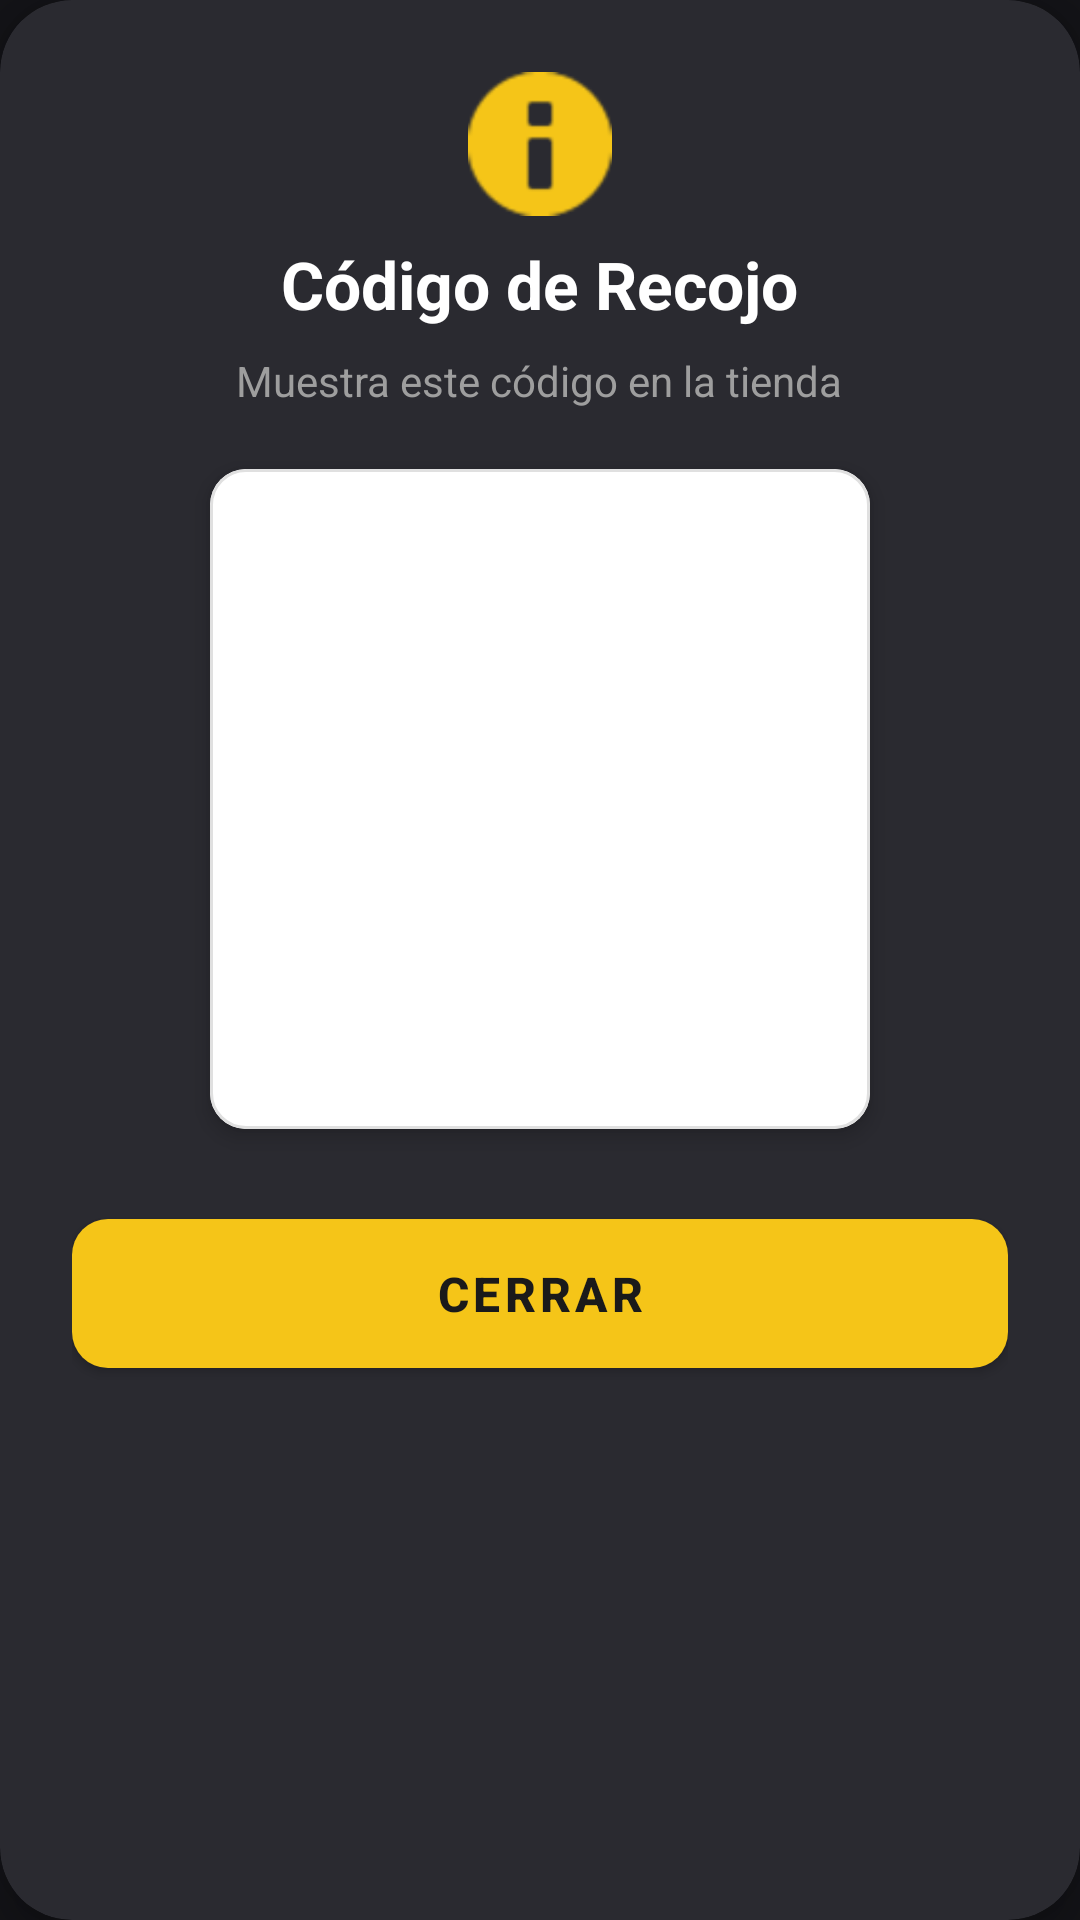

Locate icon controls on the screen. Image size 1080*1920, boxes as [x1=x1, y1=y1, x2=x2, y2=y2].
info: [x1=468, y1=72, x2=612, y2=216]
